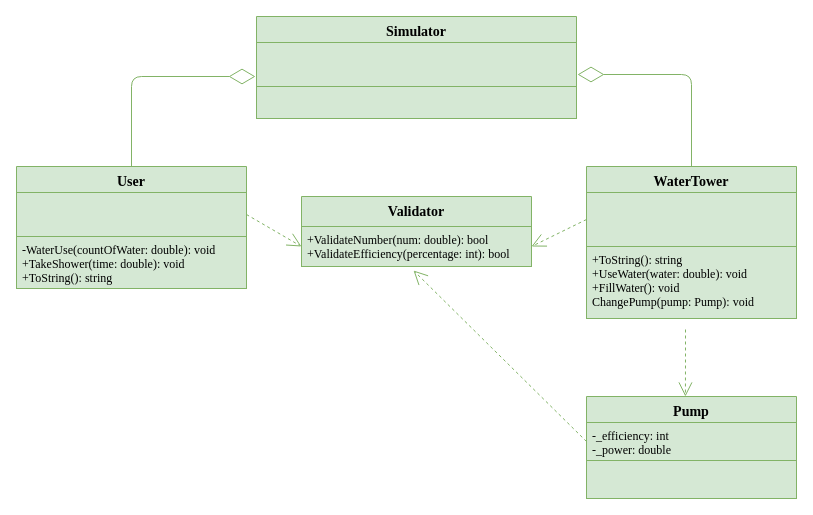
Image size: 813x515. Some labels were removed from this diagram. Here are the shapes that lost their labels. From the top down, the centre of each, then its label:
(x=416, y=64): -_waterTower: WaterTower -_user: User[]
(x=416, y=102): +Simulation(in timeOfSimulation: double): void
(x=131, y=214): -_id: int -_waterConsumption: double
(x=691, y=219): -_maxWaterLevel: double -_currentWaterLevel: double -_waterPump: Pump
(x=691, y=479): +StartPump(water: double): double +ToString(): string
